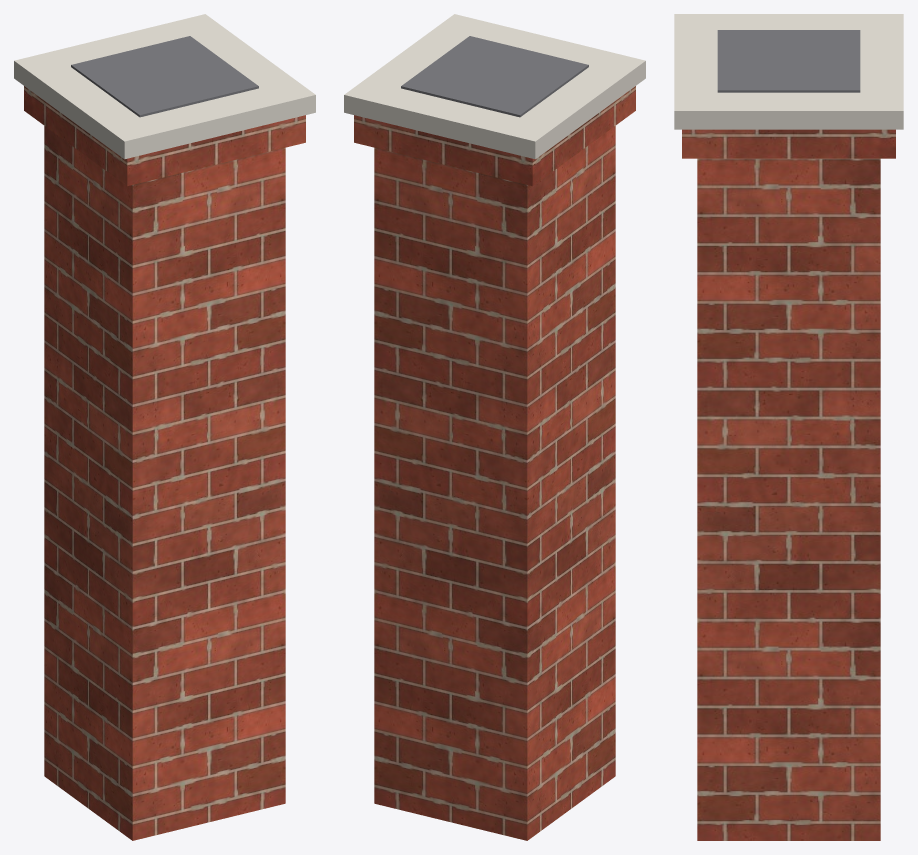
The model's file is chimney_right.glb.
The picture shows the model from 3 angles, left to right: view 1: azimuth 30°, elevation 25°; view 2: azimuth 150°, elevation 25°; view 3: azimuth 270°, elevation 25°; orthographic projection. The views are drawn at different scales.
Parts seen in each view (by area): view 1: chimney_right_brick, chimney_right_lime, chimney_right_dark; view 2: chimney_right_brick, chimney_right_lime, chimney_right_dark; view 3: chimney_right_brick, chimney_right_lime, chimney_right_dark.
Part boxes in pixels (x1,y1,x2,y2): chimney_right_brick: [24, 86, 305, 840]; chimney_right_lime: [14, 14, 315, 159]; chimney_right_dark: [71, 36, 258, 117]; chimney_right_brick: [354, 86, 635, 840]; chimney_right_lime: [344, 14, 645, 159]; chimney_right_dark: [401, 36, 588, 117]; chimney_right_brick: [682, 129, 895, 840]; chimney_right_lime: [674, 14, 903, 129]; chimney_right_dark: [717, 30, 860, 92].
Size of the model in its own units: 0.9 by 3.21 by 0.9.
3 materials, 1 textured.
